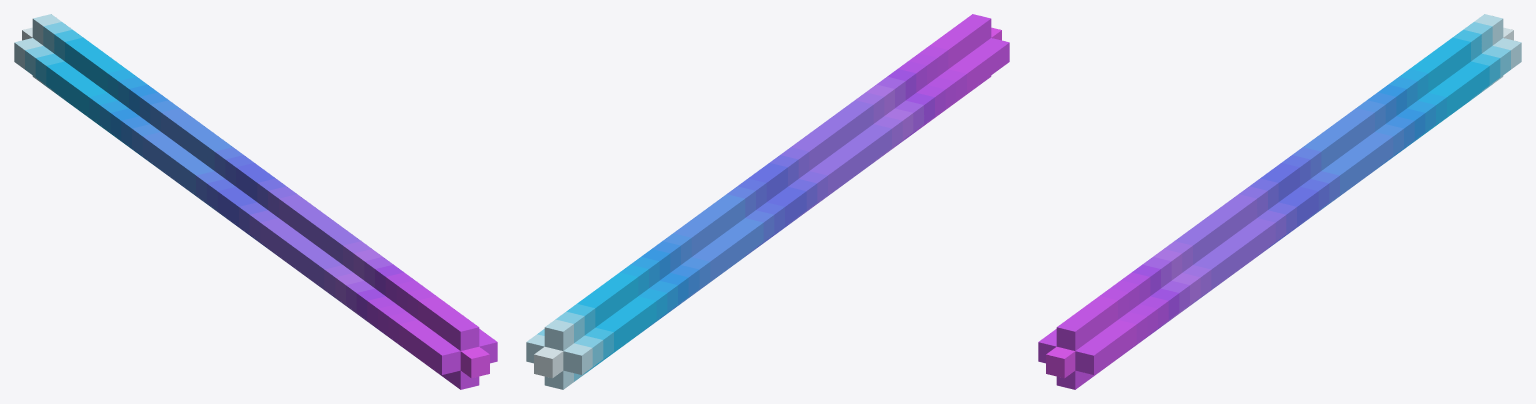
File: AstromancerCelestialBeam.obj
The picture shows the model from 3 angles, left to right: view 1: azimuth 30°, elevation 25°; view 2: azimuth 150°, elevation 25°; view 3: azimuth 330°, elevation 25°; orthographic projection.
Parts seen in each view (by area): view 1: AstromancerCelestialBeam; view 2: AstromancerCelestialBeam; view 3: AstromancerCelestialBeam.
Part boxes in pixels (x1,y1,x2,y2): AstromancerCelestialBeam: (14, 14, 497, 389); AstromancerCelestialBeam: (526, 14, 1009, 389); AstromancerCelestialBeam: (1038, 14, 1521, 389).
Size of the model in its own units: 3 by 3 by 42.
Materials: 1 (1 with a texture image).
